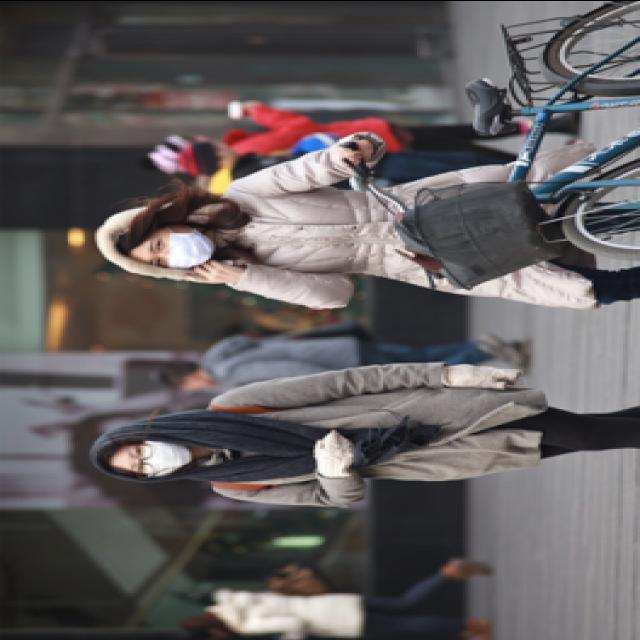with_mask: (143, 227, 213, 267), (124, 438, 192, 476)
